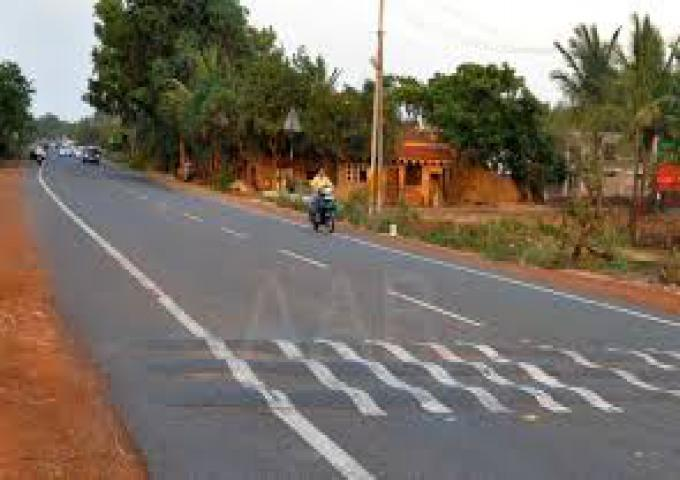Speed_Breaker: (112, 331, 680, 419), (120, 340, 679, 405)
